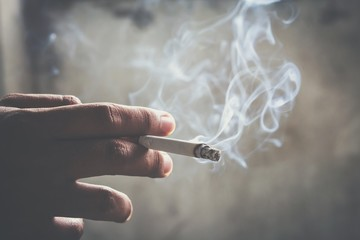cigarette: (137, 130, 222, 165)
